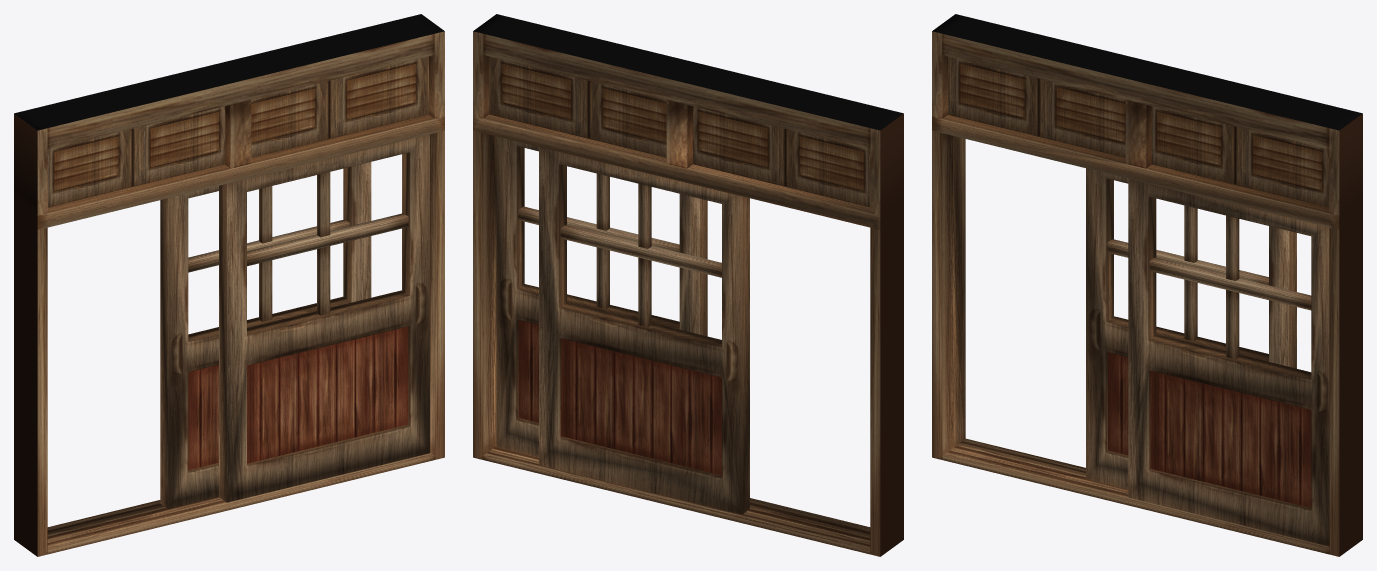
The model's file is a_SWGdoor01B.glb.
3 views of the same model, side by side, from view 1: azimuth 30°, elevation 25°; view 2: azimuth 150°, elevation 25°; view 3: azimuth 330°, elevation 25° (orthographic).
Parts seen in each view (by area): view 1: a_SWGdoor01B; view 2: a_SWGdoor01B; view 3: a_SWGdoor01B.
Part boxes in pixels (box(x1,y1,x2,y2)): a_SWGdoor01B: box(14, 14, 444, 556); a_SWGdoor01B: box(473, 14, 903, 556); a_SWGdoor01B: box(932, 14, 1362, 556).
Size of the model in its own units: 3 by 3 by 0.3004.
3 materials, 3 textured.
